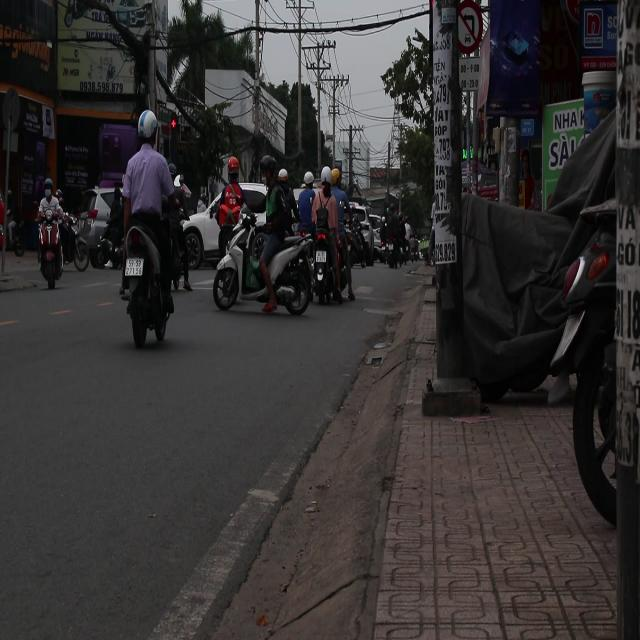car: (182, 202, 220, 268)
motorbike: (214, 201, 314, 316), (119, 203, 175, 350), (307, 180, 347, 306), (35, 209, 68, 289), (346, 204, 377, 267)
